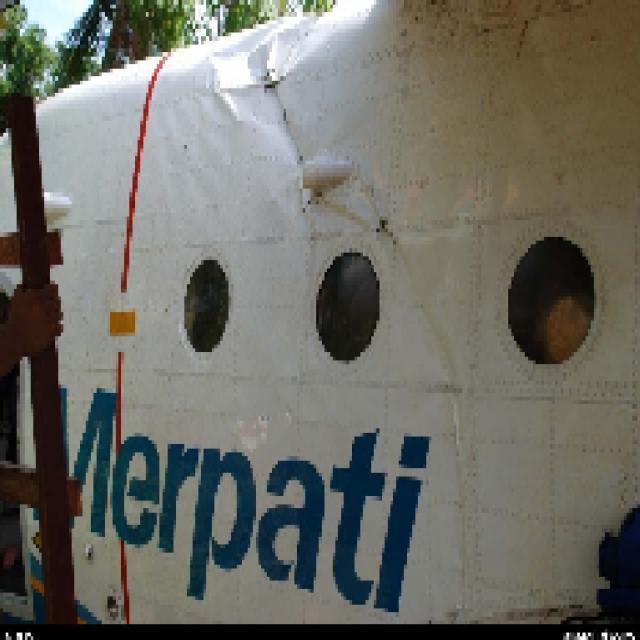crack: (262, 64, 293, 126), (374, 214, 402, 249)
